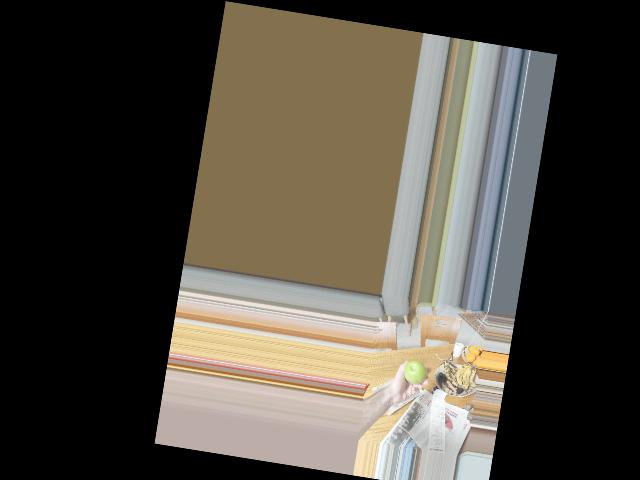apple: (401, 358, 428, 386)
